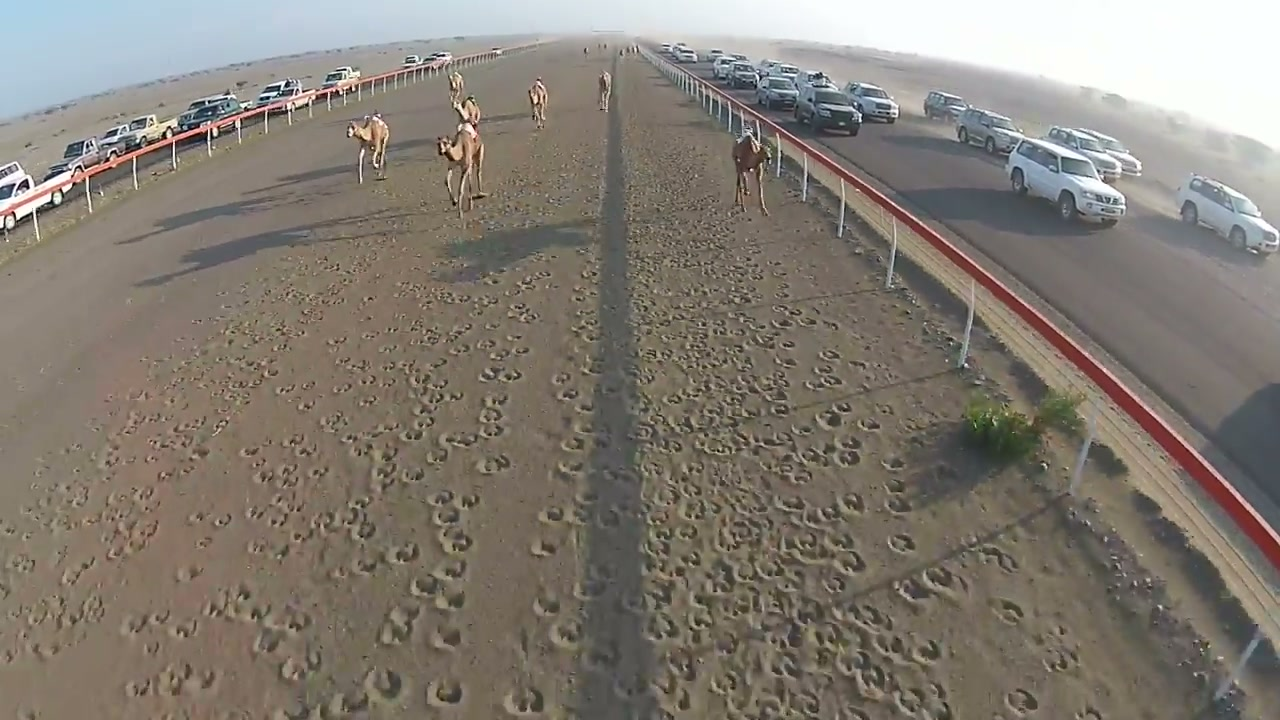animal_footprint: (0, 69, 1173, 719), (1036, 625, 1080, 672), (362, 667, 410, 705), (377, 606, 420, 645), (278, 649, 322, 682), (502, 684, 547, 716), (974, 544, 1019, 573), (548, 616, 582, 652), (884, 476, 913, 515), (430, 622, 464, 651), (1005, 688, 1039, 716), (991, 598, 1025, 624), (888, 532, 916, 554), (530, 538, 558, 557), (1072, 706, 1104, 719)
